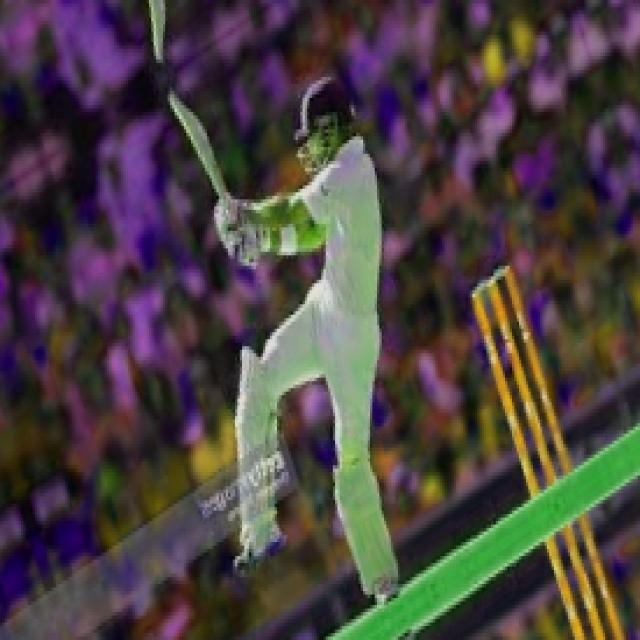toe: (163, 87, 187, 123)
